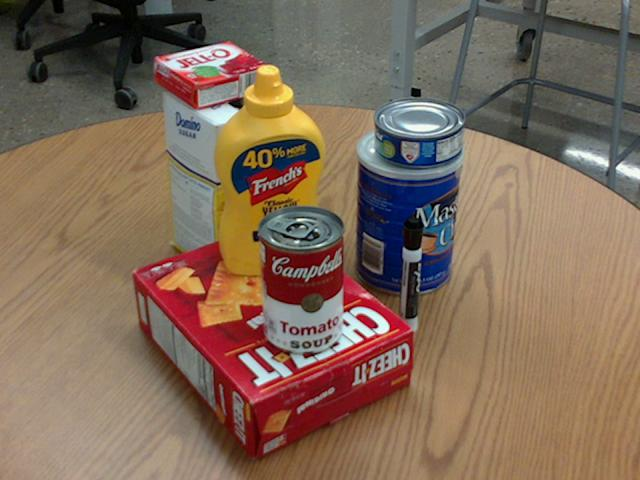cracker_box: (134, 220, 413, 458)
gelatin_box: (155, 42, 270, 108)
large_marker: (396, 217, 422, 334)
master_chef_can: (352, 123, 464, 295)
mug: (215, 143, 302, 245)
mustard_bottle: (213, 64, 324, 274)
potted_meat_can: (198, 81, 313, 203)
sugar_box: (163, 85, 249, 282)
tomato_soup_can: (257, 204, 344, 353)
tuna_fish_can: (373, 98, 465, 167)
